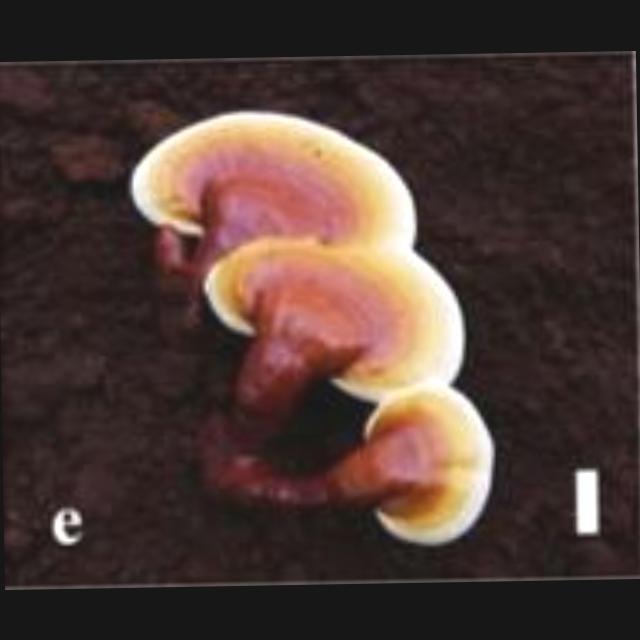ganoderma: (202, 235, 471, 411), (126, 107, 422, 260), (363, 383, 497, 550)
